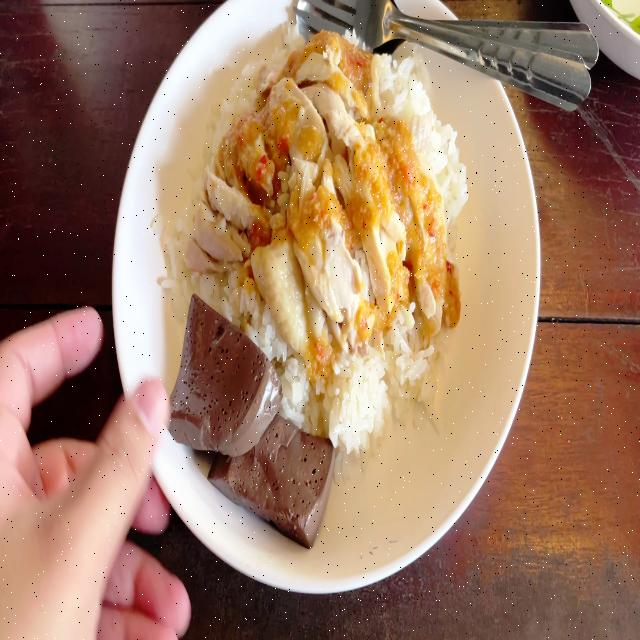boiled_chicken: (227, 58, 420, 321)
boiled_chicken_blood_jelly: (174, 286, 274, 462), (216, 395, 328, 537)
chicken_rice: (170, 19, 477, 545)
